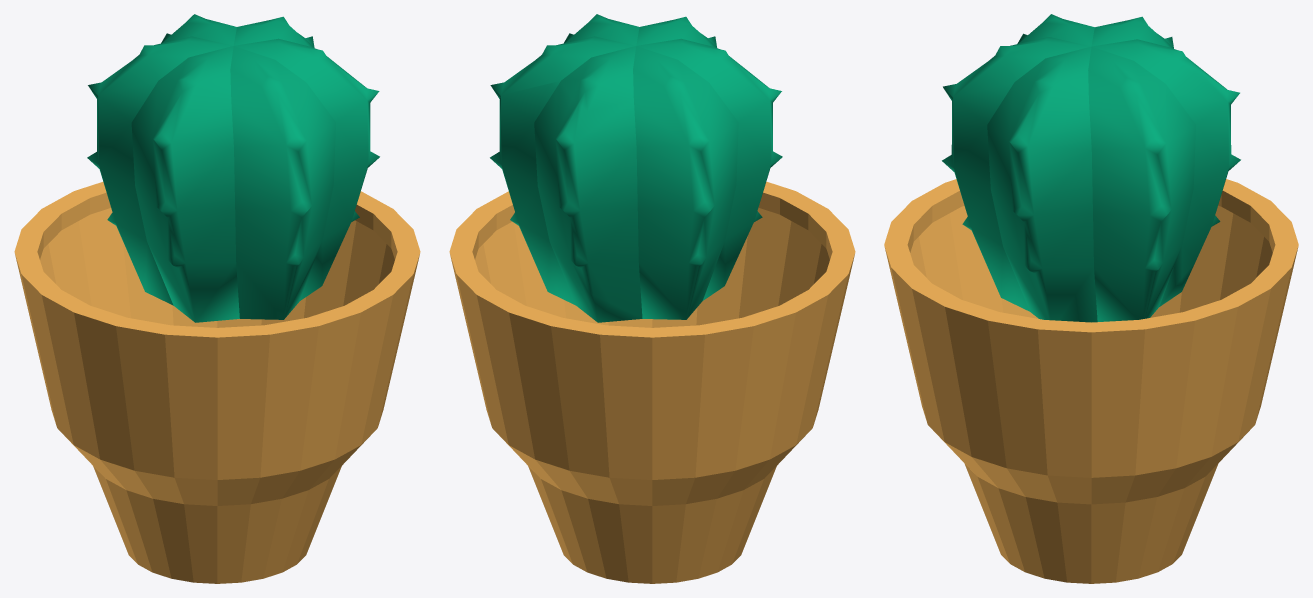
Rendered from cactus.fbx.
The picture shows the model from 3 angles, left to right: view 1: azimuth 30°, elevation 25°; view 2: azimuth 150°, elevation 25°; view 3: azimuth 270°, elevation 25°; orthographic projection. The views are drawn at different scales.
Parts seen in each view (by area): view 1: ID41_1, cactus_mesh; view 2: ID41_1, cactus_mesh; view 3: ID41_1, cactus_mesh.
Part boxes in pixels (left/top/right/bottom): ID41_1: left=14, top=182, right=420, bottom=583; cactus_mesh: left=87, top=14, right=379, bottom=322; ID41_1: left=449, top=181, right=855, bottom=583; cactus_mesh: left=490, top=14, right=782, bottom=322; ID41_1: left=884, top=179, right=1298, bottom=583; cactus_mesh: left=942, top=14, right=1240, bottom=322.
Size of the model in its own units: 17.4 by 23.6 by 17.4.
